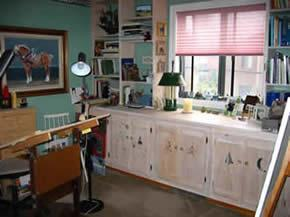Ventana: (173, 10, 263, 109)
